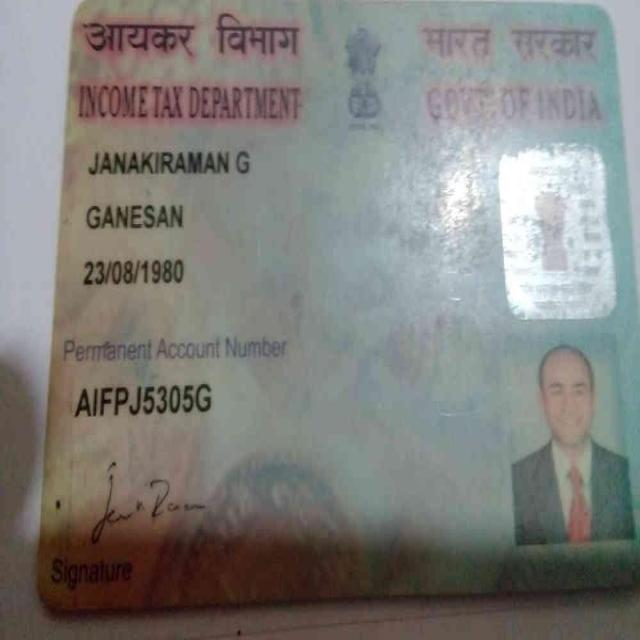pan_card: (41, 10, 640, 607)
